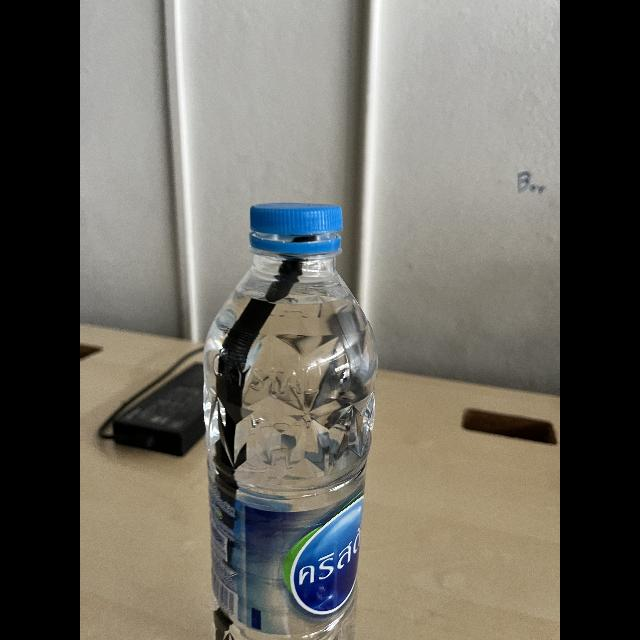plastic_bottle_cap: (246, 194, 342, 242)
